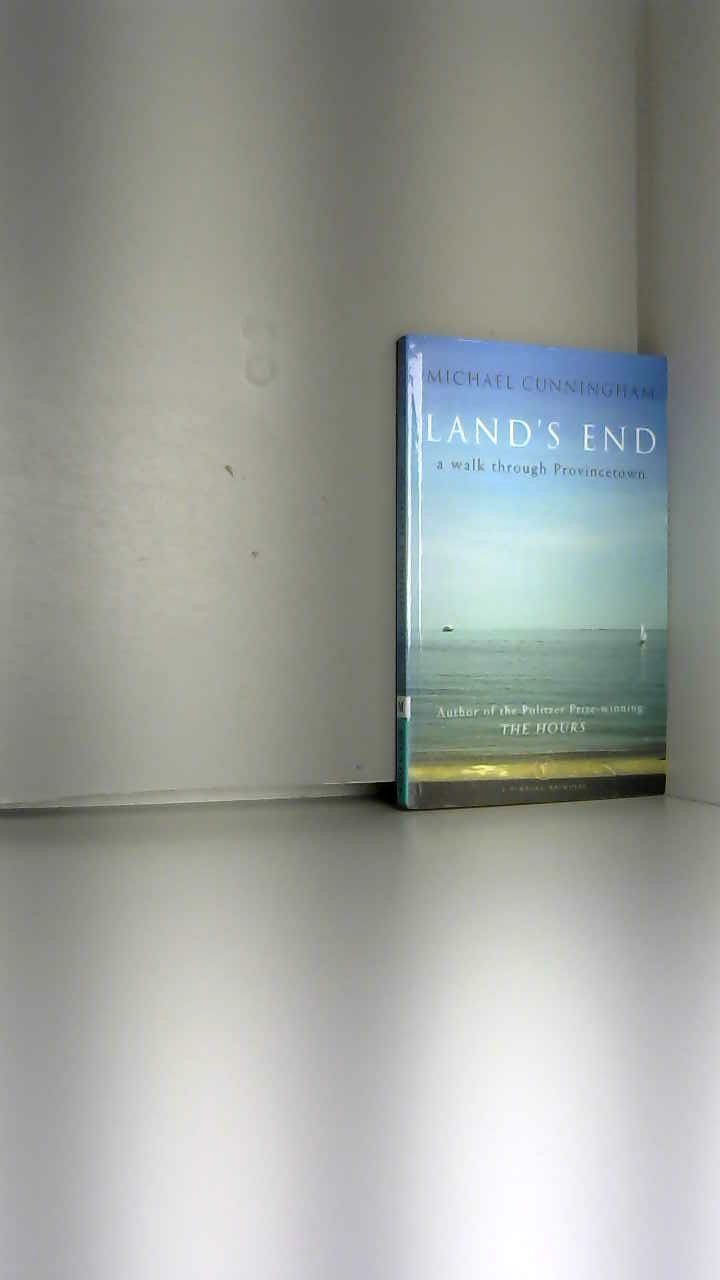book: (370, 300, 720, 827)
